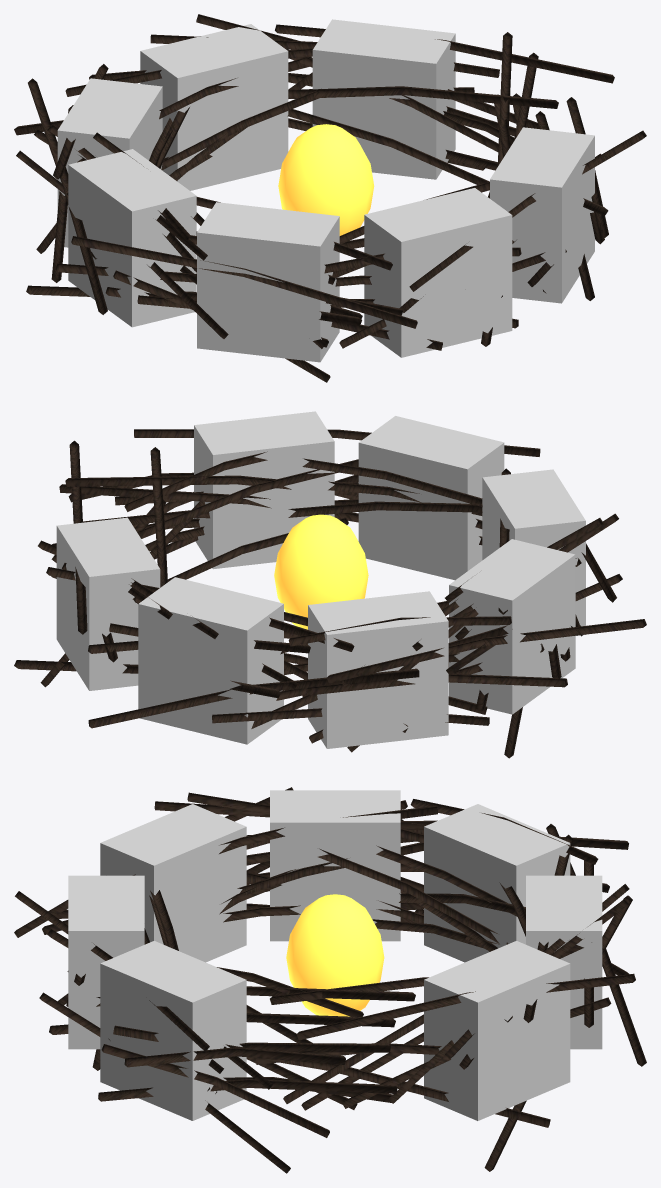
Rendered from phoenix_nest.glb.
3 views of the same model, one above another, from view 1: azimuth 30°, elevation 25°; view 2: azimuth 150°, elevation 25°; view 3: azimuth 270°, elevation 25° (orthographic). The views are drawn at different scales.
Visible parts, largest first — view 1: Nest, Nest-convcolonly.006, Nest-convcolonly.005, Nest-convcolonly.002, Nest-convcolonly.001, Nest-convcolonly.004, Nest-convcolonly.007, Egg, Nest-convcolonly.003; view 2: Nest, Nest-convcolonly.002, Nest-convcolonly.003, Nest-convcolonly.006, Nest-convcolonly.004, Nest-convcolonly.007, Nest-convcolonly.001, Egg, Nest-convcolonly.005; view 3: Nest, Nest-convcolonly.001, Nest-convcolonly.007, Nest-convcolonly.005, Nest-convcolonly.004, Nest-convcolonly.003, Nest-convcolonly.006, Egg, Nest-convcolonly.002.
Part boxes in pixels (x1,y1,x2,y2): Nest: [14, 14, 646, 382]; Nest-convcolonly.006: [364, 188, 512, 357]; Nest-convcolonly.005: [197, 202, 339, 362]; Nest-convcolonly.002: [140, 24, 288, 190]; Nest-convcolonly.001: [312, 19, 455, 179]; Nest-convcolonly.004: [68, 149, 196, 327]; Nest-convcolonly.007: [490, 127, 594, 303]; Egg: [278, 124, 374, 235]; Nest-convcolonly.003: [57, 78, 162, 247]; Nest: [14, 429, 646, 758]; Nest-convcolonly.002: [138, 577, 283, 744]; Nest-convcolonly.003: [308, 591, 448, 748]; Nest-convcolonly.006: [358, 416, 504, 580]; Nest-convcolonly.004: [449, 539, 575, 714]; Nest-convcolonly.007: [194, 411, 334, 569]; Nest-convcolonly.001: [56, 517, 160, 690]; Egg: [274, 514, 368, 629]; Nest-convcolonly.005: [482, 469, 585, 635]; Nest: [14, 787, 646, 1173]; Nest-convcolonly.001: [424, 941, 570, 1120]; Nest-convcolonly.007: [100, 941, 246, 1120]; Nest-convcolonly.005: [100, 804, 246, 962]; Nest-convcolonly.004: [270, 790, 400, 941]; Nest-convcolonly.003: [424, 804, 570, 962]; Nest-convcolonly.006: [68, 875, 144, 1049]; Egg: [286, 894, 384, 1016]; Nest-convcolonly.002: [526, 875, 602, 1049].
Size of what is drawn, in the model's own units: 11.95 by 3.51 by 11.61.
Materials: 2 (1 with a texture image).
